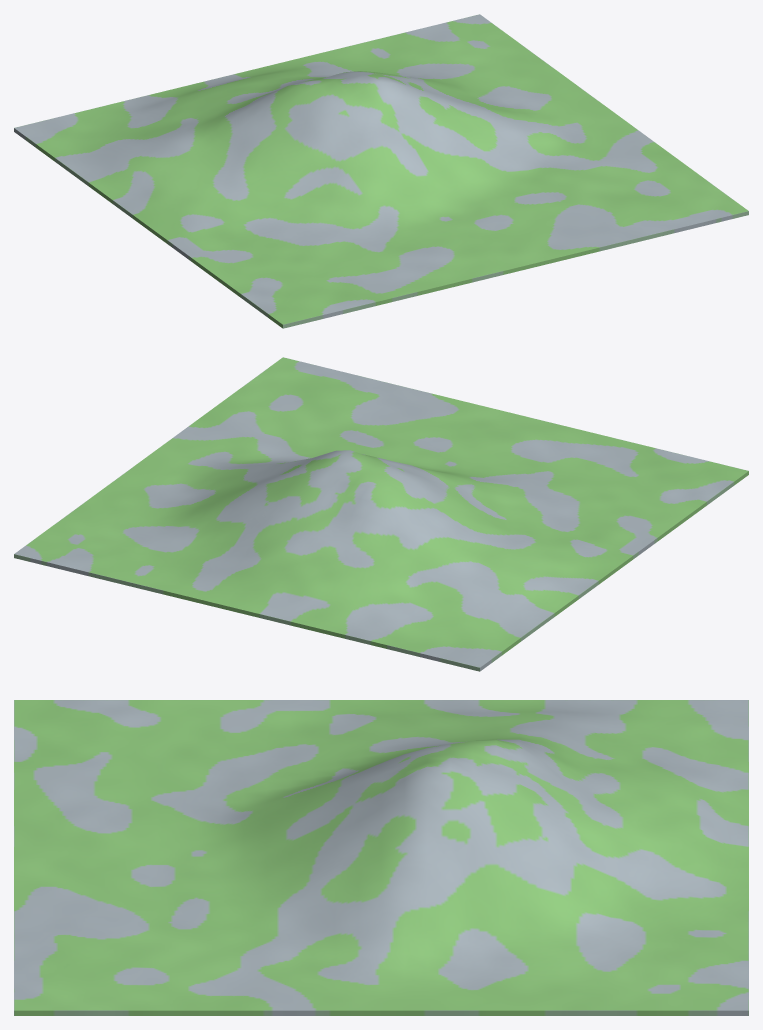
Rendered from Grass_RockyGround_11.obj.
The picture shows the model from 3 angles, top to bottom: view 1: azimuth 30°, elevation 25°; view 2: azimuth 150°, elevation 25°; view 3: azimuth 270°, elevation 25°; orthographic projection. The views are drawn at different scales.
Bounding box in the file's own units: 10 × 1.54 × 10.
Materials: 1 (1 with a texture image).
